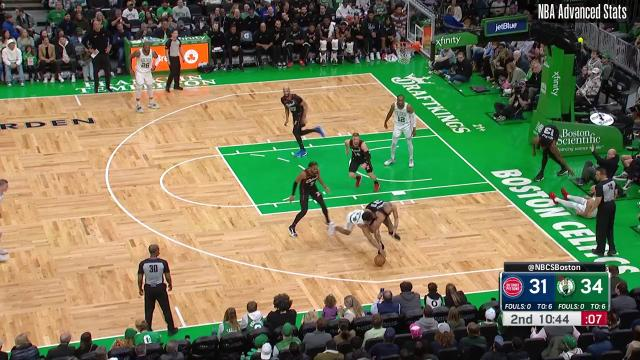3_dx: (570, 251, 584, 267)
3_sx: (374, 76, 386, 88)
b_sx: (364, 68, 376, 78)
free_adx: (254, 207, 268, 221)
free_asx: (210, 142, 222, 154)
free_bdx: (490, 184, 504, 197)
free_bsx: (422, 124, 436, 132)
mid_dx: (178, 322, 194, 334)
mid_sx: (70, 90, 82, 100)
referee: (137, 243, 181, 332), (594, 170, 622, 256), (165, 26, 187, 92)
team: (383, 93, 417, 166), (330, 208, 382, 255), (131, 42, 161, 114), (551, 186, 605, 218), (0, 175, 16, 266)
team1: (289, 162, 333, 238), (281, 86, 325, 158), (531, 122, 575, 180), (344, 132, 380, 192), (363, 200, 401, 244)
timer: (537, 310, 571, 326)
